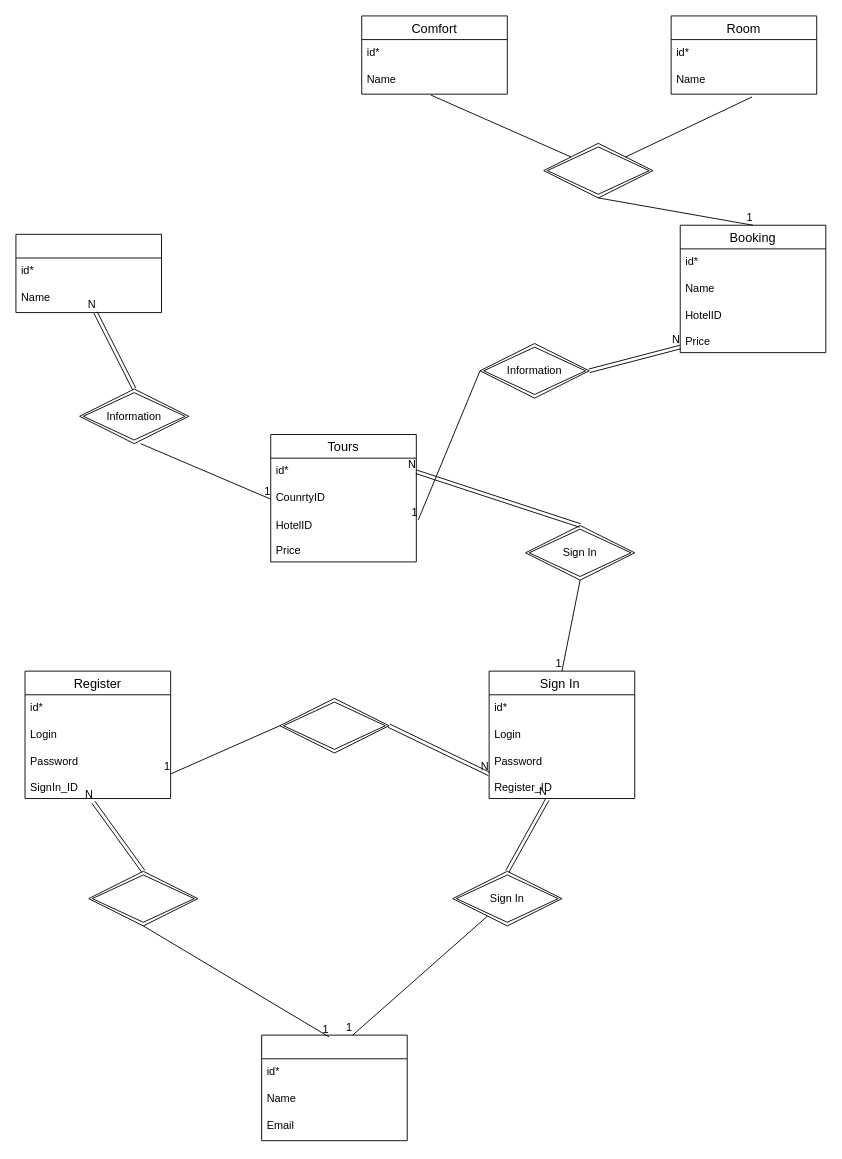
Image size: 842x1159. Some labels were removed from this diagram. The shapes that lost their labels are listed below. From the top down, each one's box as (x1, y1, x2, y2) in pixels, then its label:
(543, 142, 653, 198): Include
(15, 233, 162, 313): Countries
(279, 698, 389, 753): DataBase
(88, 870, 198, 926): Registration
(261, 1034, 407, 1141): User
